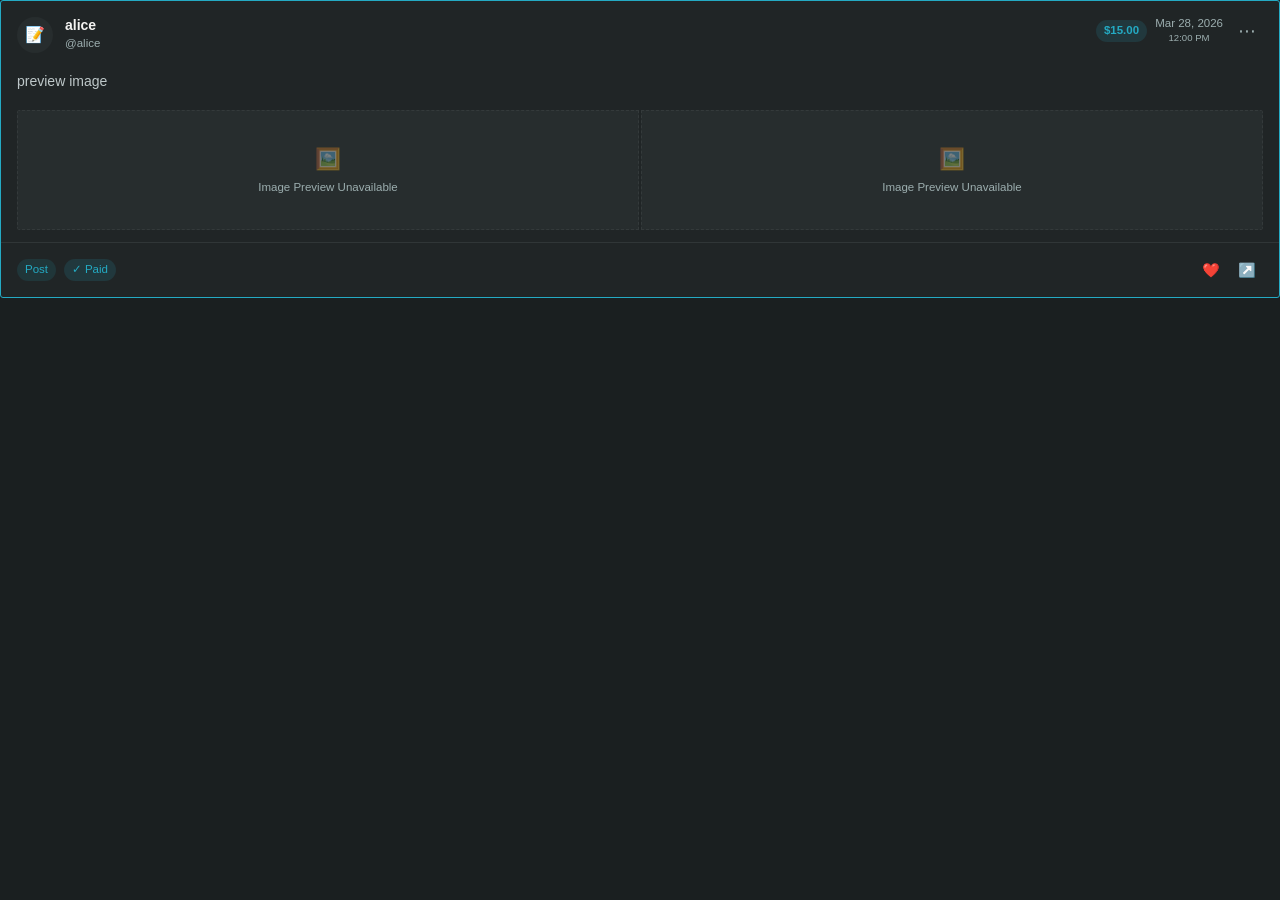
Test: ContentCard › navigates between lightbox images with the left and right arrow keys
Click the 1st button with class "content-card-media-item": (328, 170) x1=17 y1=110 x2=639 y2=230
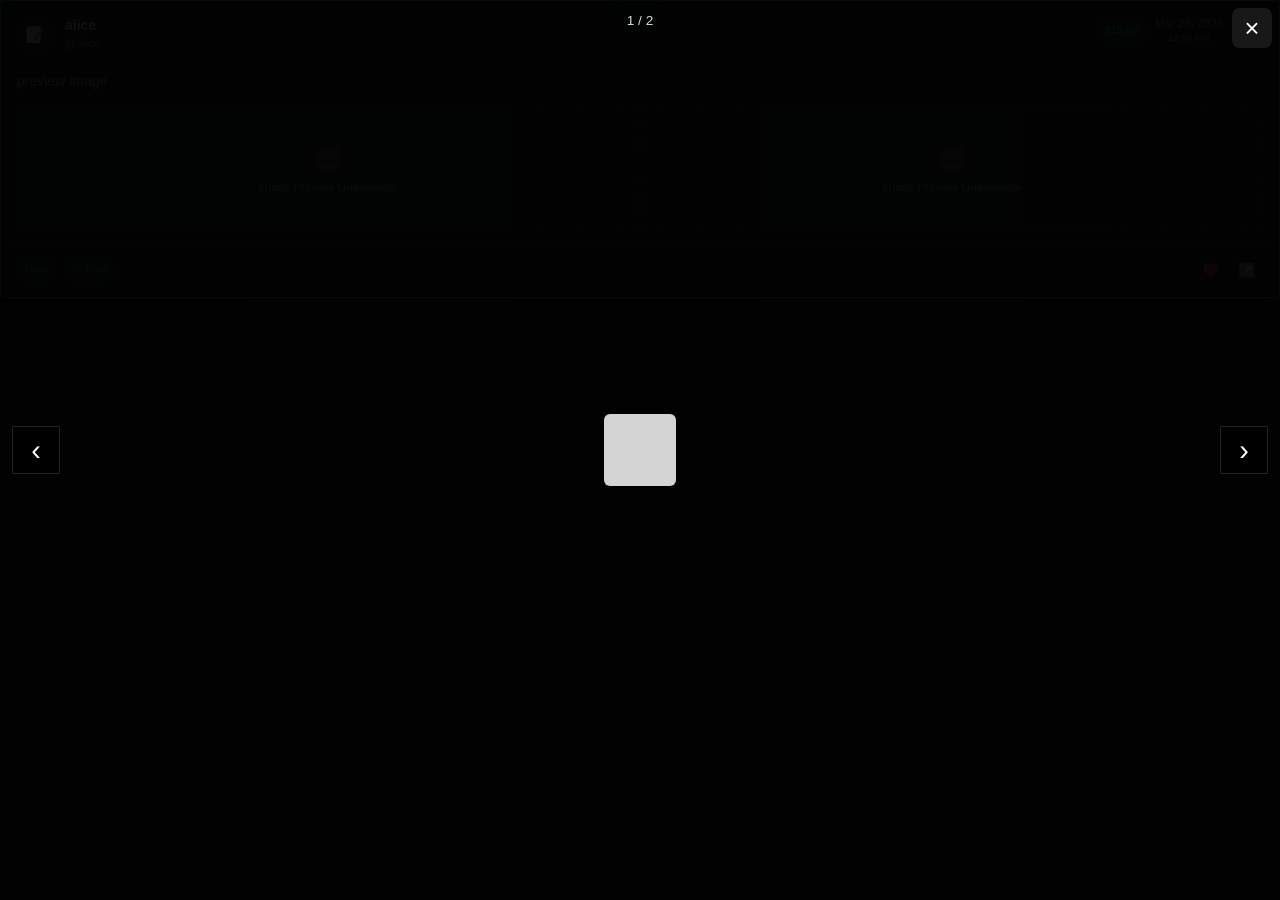
Expected: the text with class "cc-lightbox-counter" reads "1 / 2", x1=613 y1=6 x2=667 y2=35
Press ArrowRight
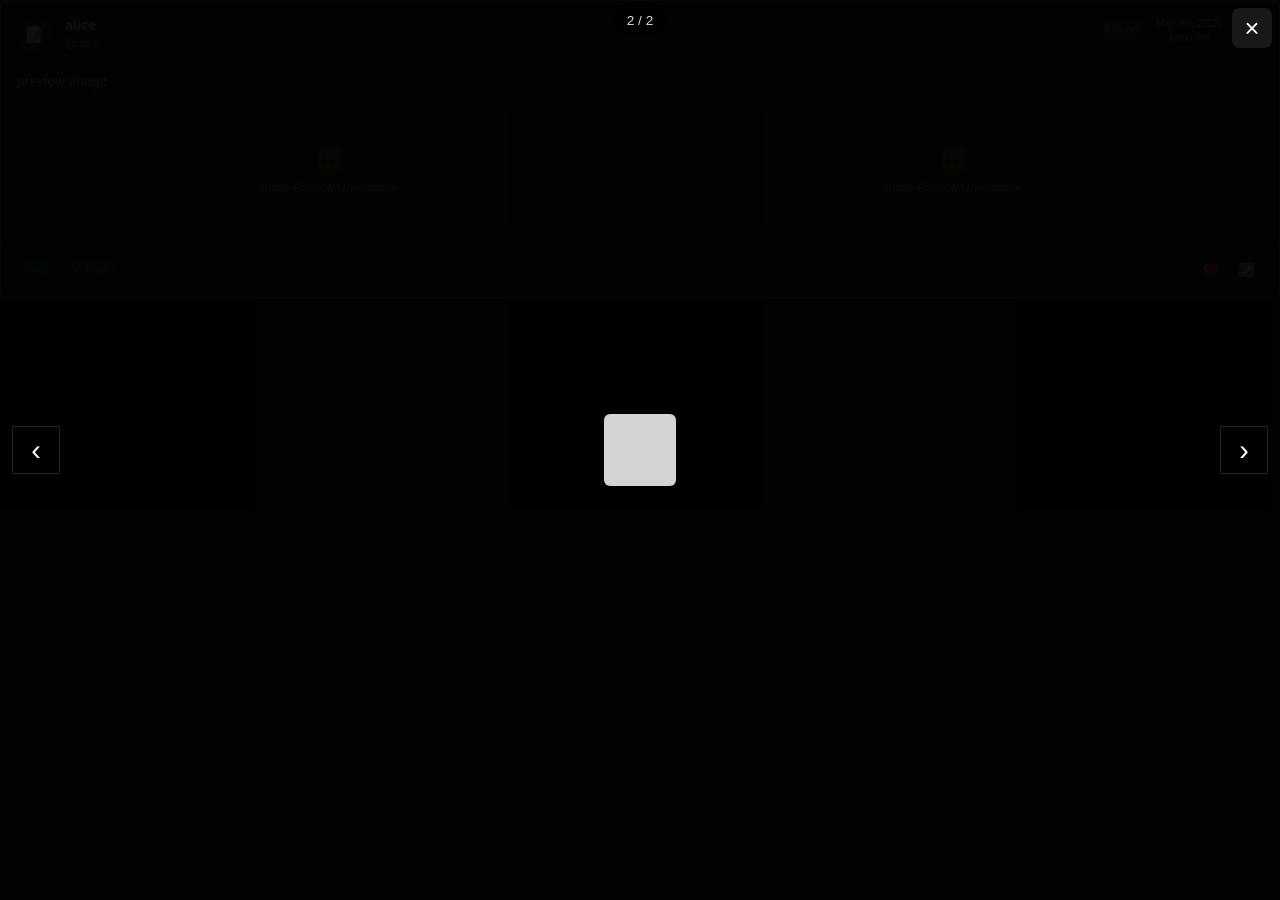
Expected: the text with class "cc-lightbox-counter" reads "2 / 2", x1=613 y1=6 x2=667 y2=35
Press ArrowLeft
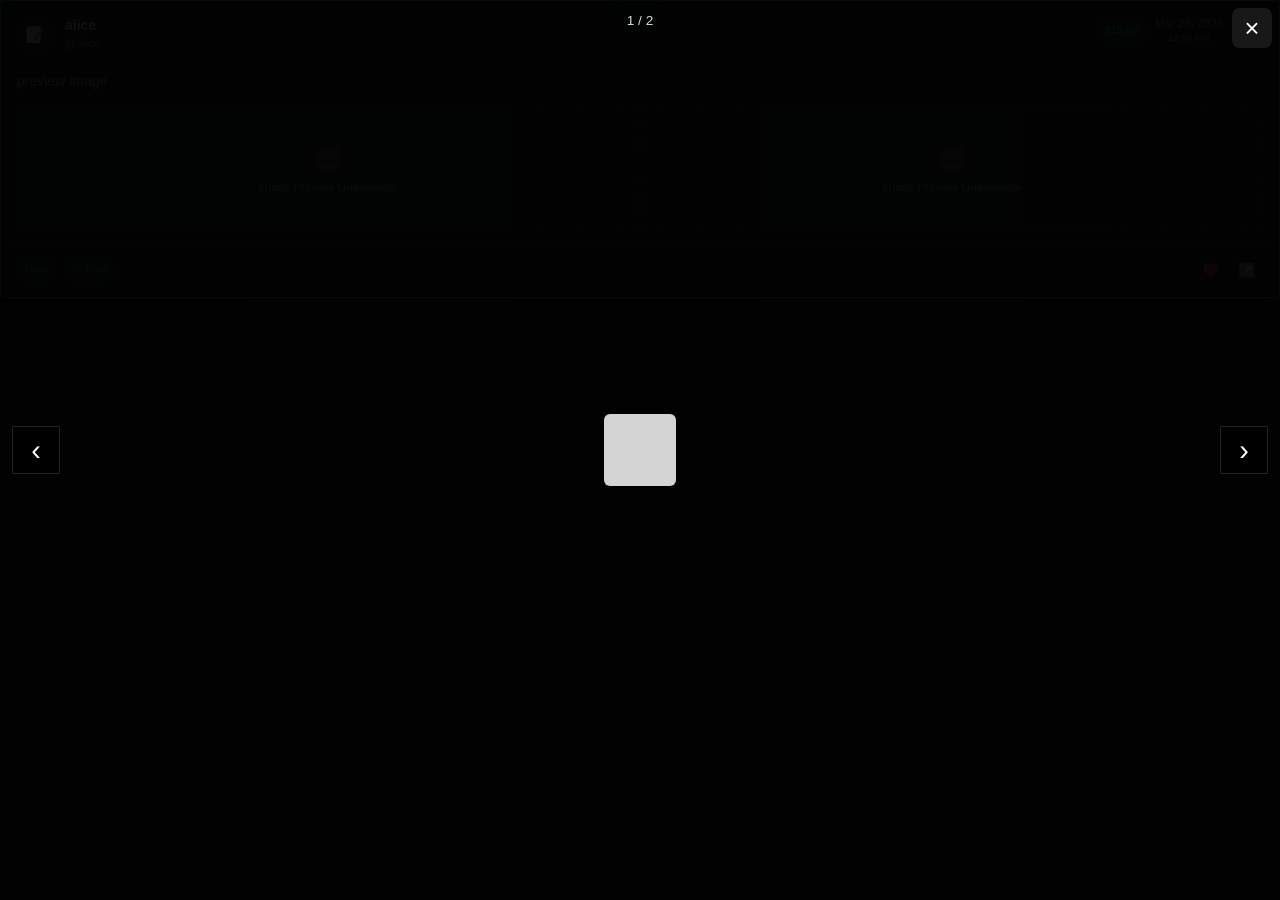
Expected: the text with class "cc-lightbox-counter" reads "1 / 2", x1=613 y1=6 x2=667 y2=35
